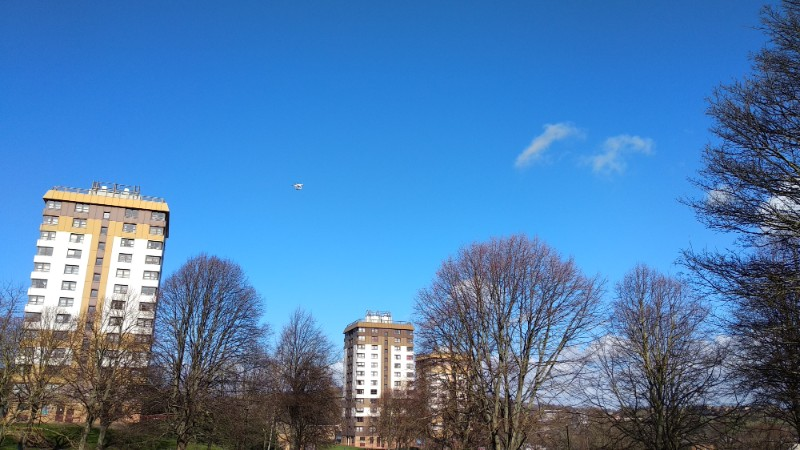drone: (292, 182, 304, 191)
